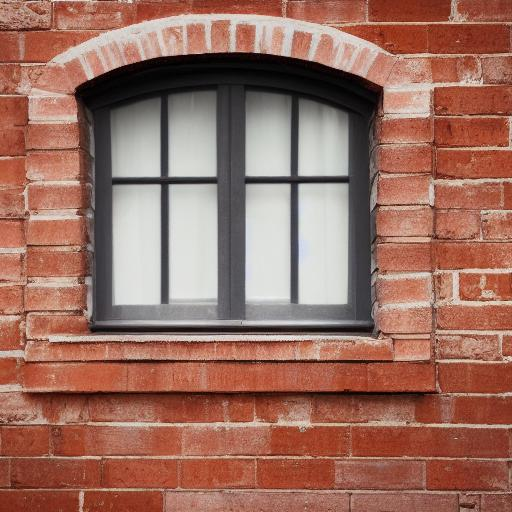Window: (21, 13, 437, 397)
